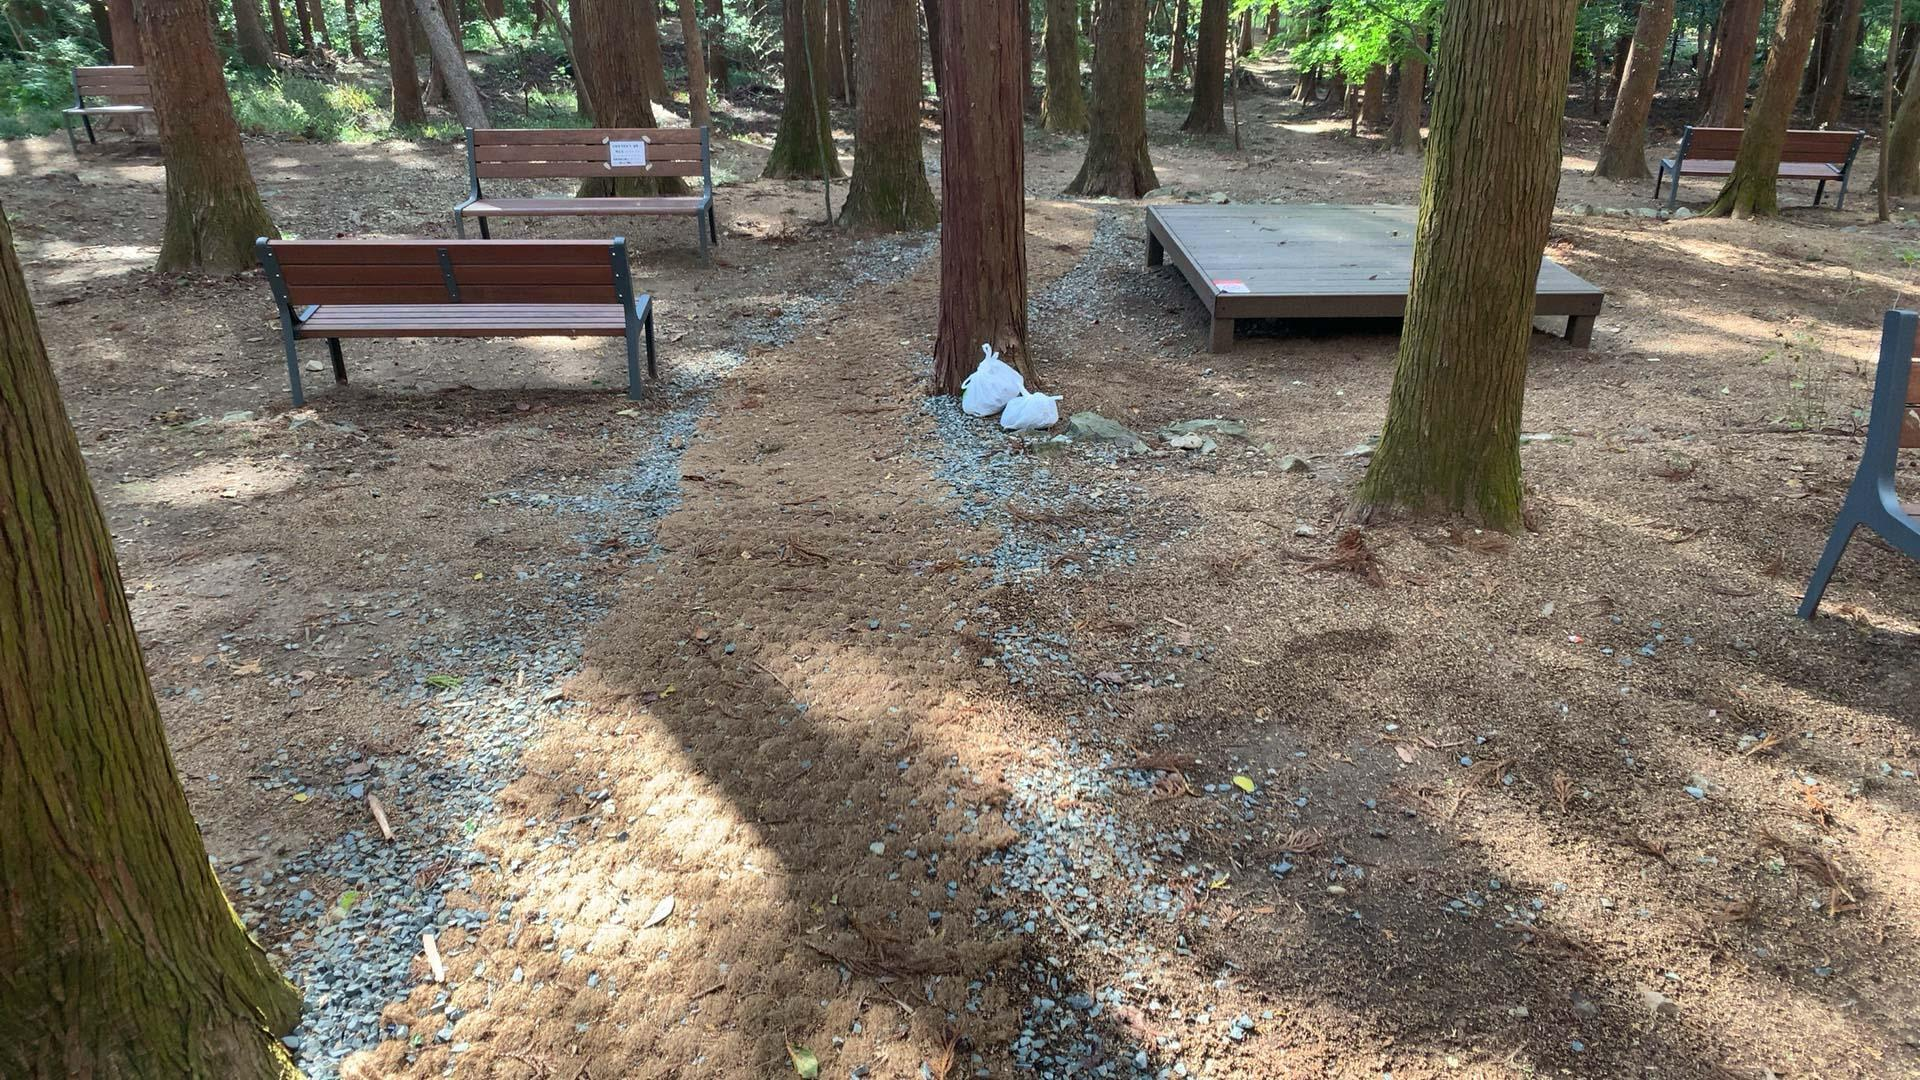white_bag: (955, 340, 1027, 417), (992, 381, 1065, 433)
